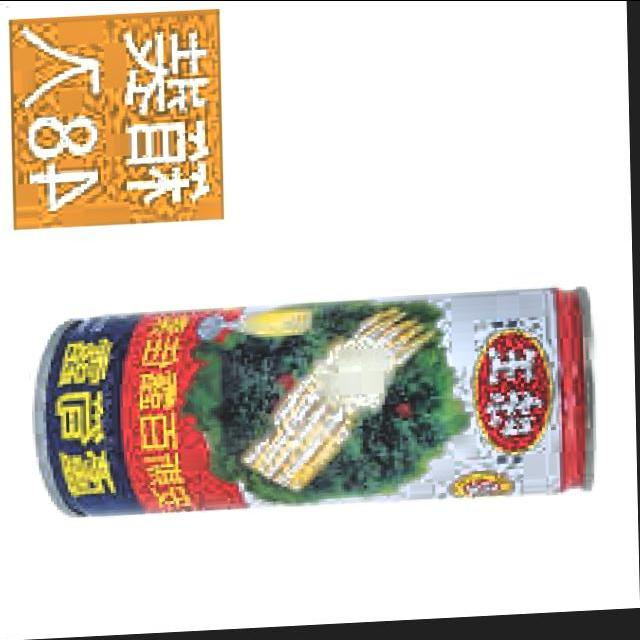Aluminum Can: (27, 284, 612, 542)
